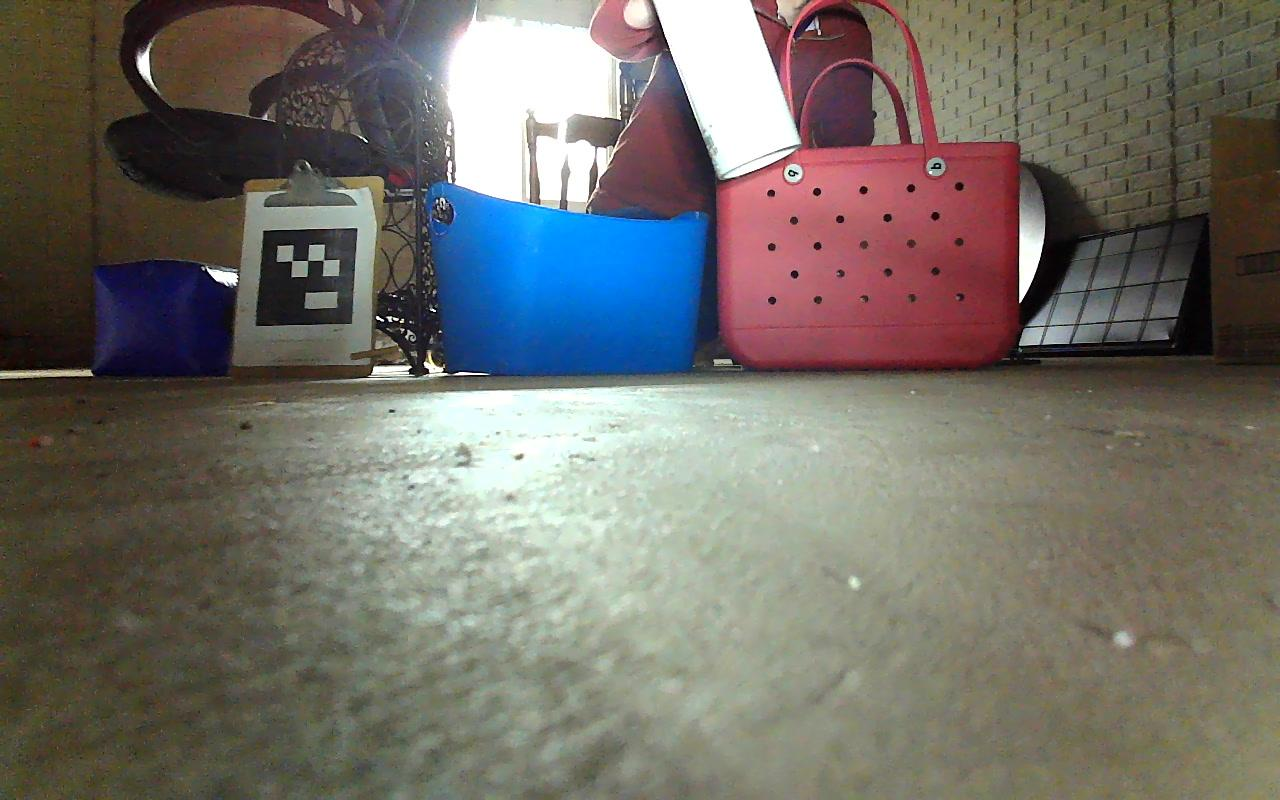coral: (643, 0, 808, 182)
